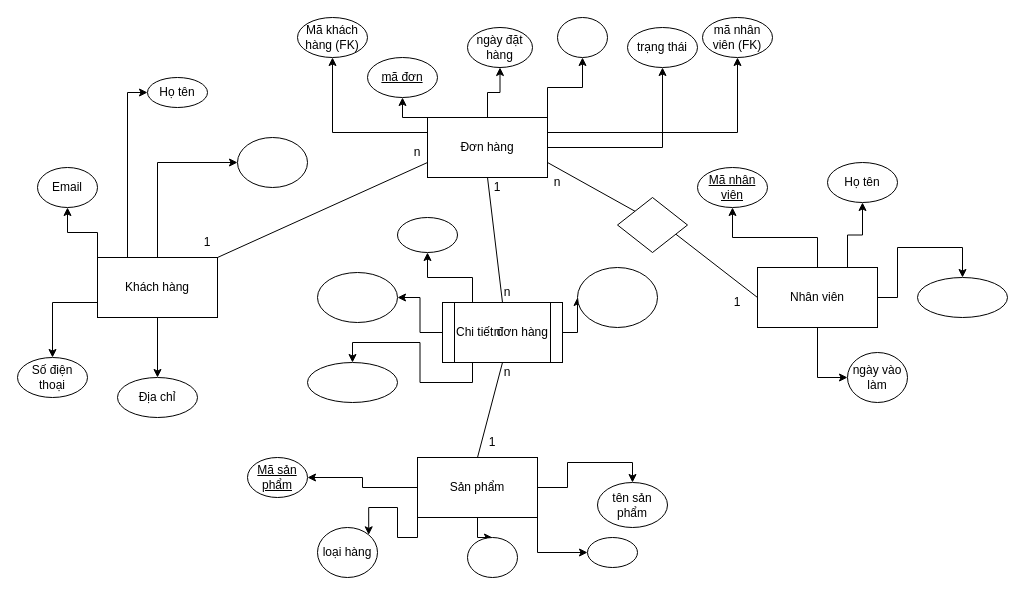
This 1025x595 diagram has some shape labels left out. The shapes that lost their labels are listed below. From the top down, each one's box as (x1, y1, x2, y2) in pixels, then its label:
(556, 16, 608, 58): tổng tiền
(236, 136, 308, 188): Mã khách hàng
(396, 216, 458, 252): Mã đơn (FK)
(616, 196, 688, 252): Xử lí
(316, 272, 398, 322): số lượng
(576, 266, 658, 328): đơn giá tại thời điểm mua
(916, 276, 1008, 318): vị trí
(306, 362, 398, 402): Mã sản phẩm (FK)
(466, 536, 518, 578): Mô tả
(586, 536, 638, 568): giá
